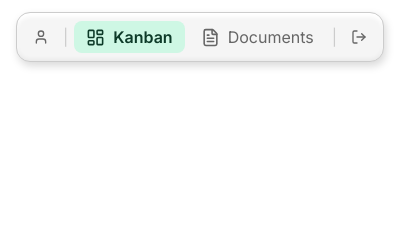
Navbar › opens an account menu with User summary and Settings without duplicating logout
Click the button named "Open account menu".
click(41, 37)  # box [25, 21, 57, 53]
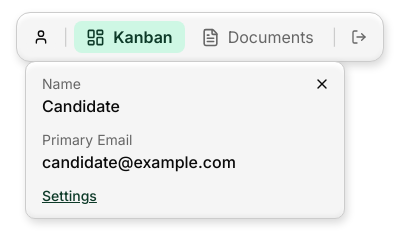
Check: the text "Candidate" is shown, box [42, 96, 120, 116]
Check: the text "candidate@example.com" is shown, box [42, 152, 236, 172]
Check: the link "Settings" is shown, box [42, 187, 97, 204]
